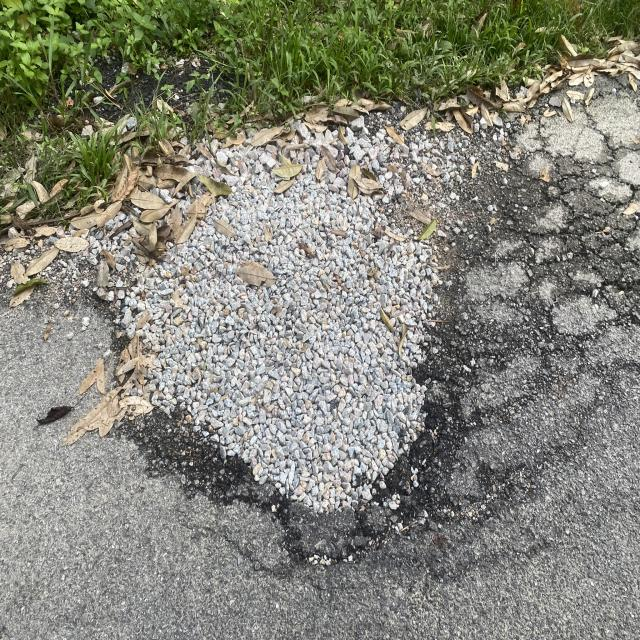Pothole: (67, 161, 559, 640)
